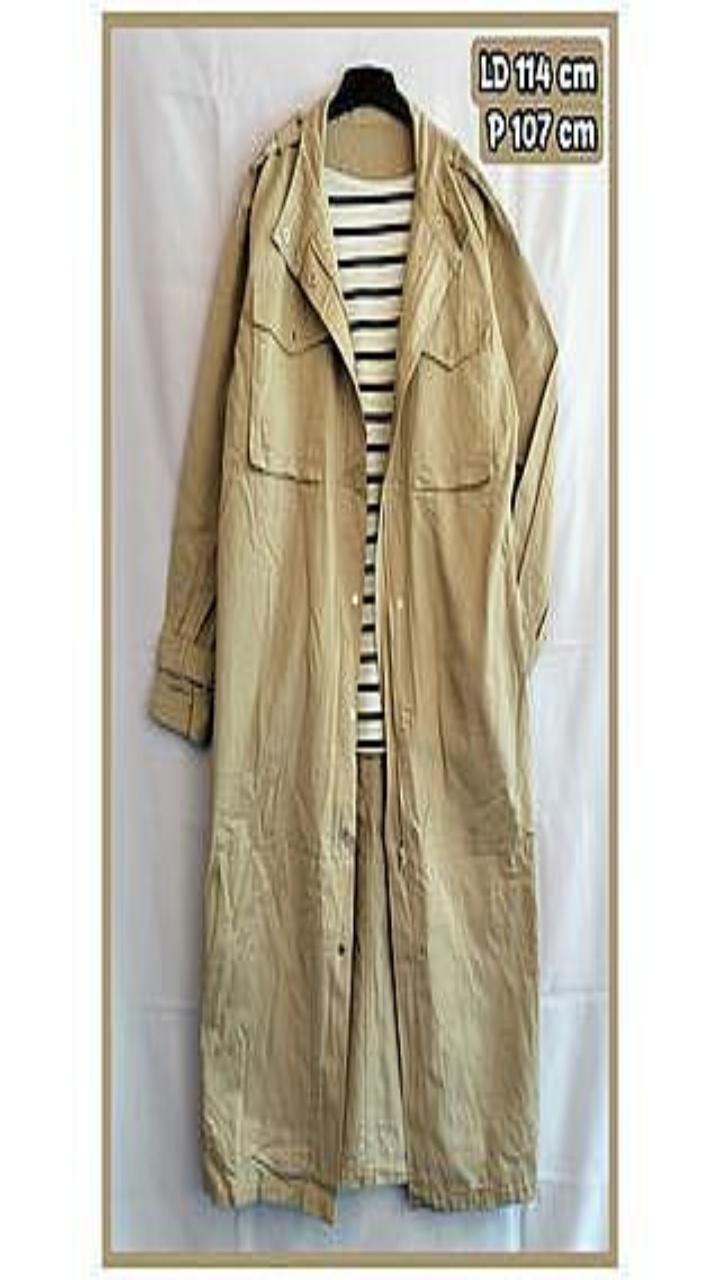Coat: (150, 86, 365, 1221)
T-Shirt: (325, 165, 414, 751)
